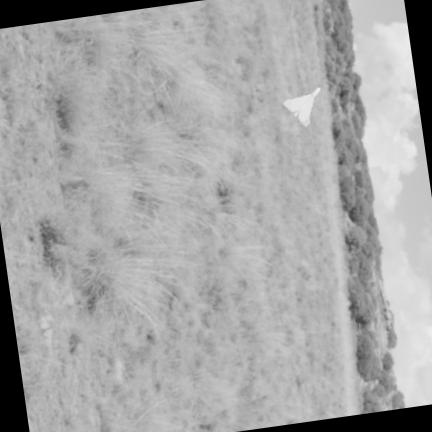Shahed: (282, 88, 319, 127)
